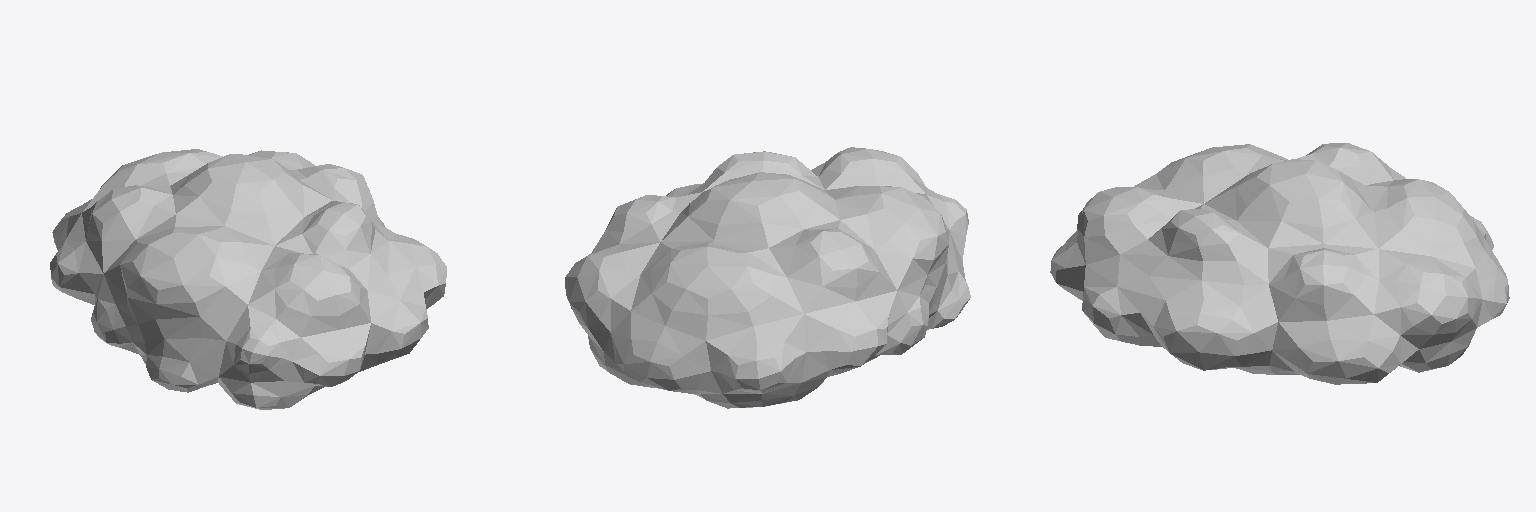
Rendered from cloud2.obj.
3 views of the same model, side by side, from view 1: azimuth 30°, elevation 25°; view 2: azimuth 150°, elevation 25°; view 3: azimuth 270°, elevation 25° (orthographic).
Parts seen in each view (by area): view 1: cloud; view 2: cloud; view 3: cloud.
Part boxes in pixels (bbox=[...]): cloud: bbox=[50, 149, 446, 409]; cloud: bbox=[565, 147, 970, 408]; cloud: bbox=[1050, 143, 1509, 384].
Size of the model in its own units: 236 by 119 by 297.